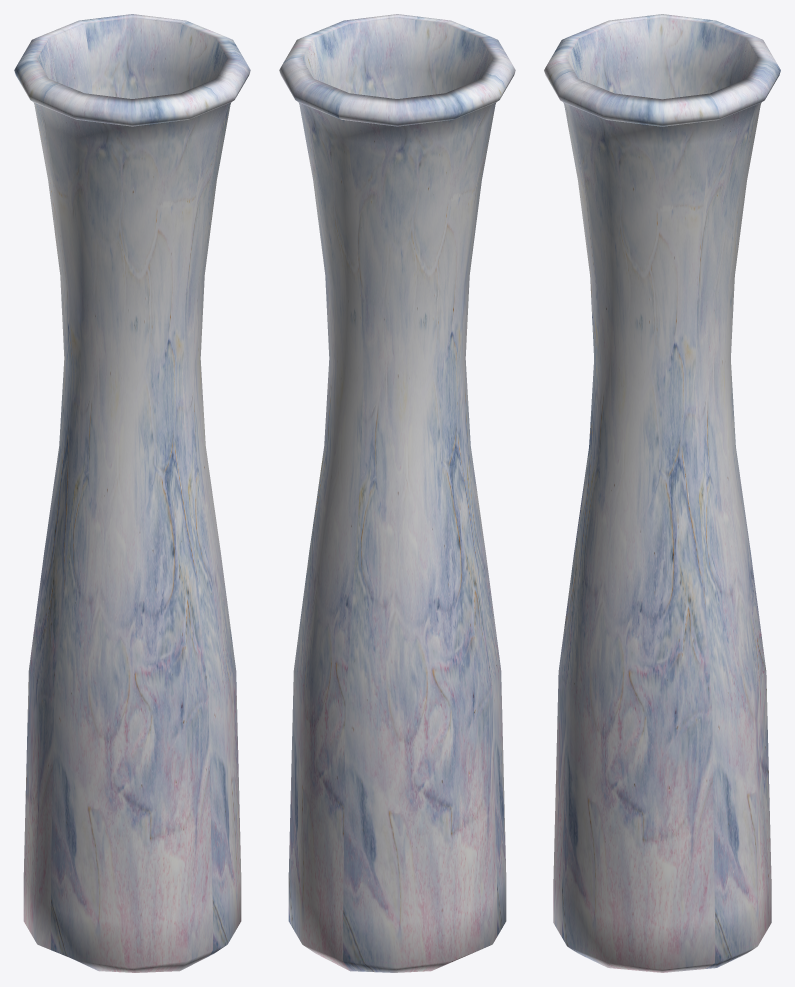
File: bigvase2.fbx
3 renders of one model, left to right at view 1: azimuth 30°, elevation 25°; view 2: azimuth 150°, elevation 25°; view 3: azimuth 270°, elevation 25°, orthographic.
Parts seen in each view (by area): view 1: bigvase; view 2: bigvase; view 3: bigvase.
Boxes of the visible parts, box(x1,y1,x2,y2) form: bigvase: box(14, 14, 250, 972); bigvase: box(279, 14, 515, 972); bigvase: box(544, 14, 780, 972).
Bounding box in the file's own units: 1.03 × 4.2 × 1.02.
